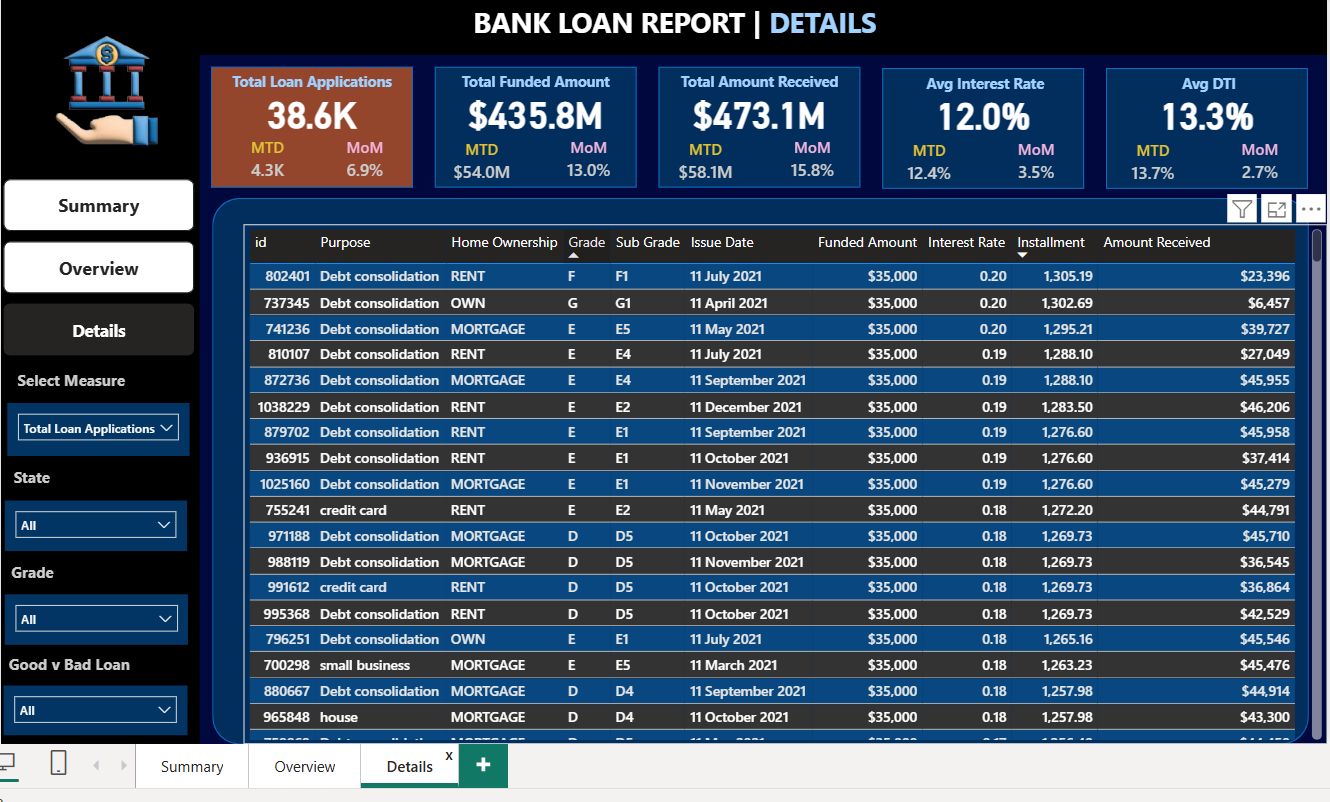

This screenshot's page, from the dashboard's own definition file:
{"tool":"powerbi","page":{"name":"Details","canvas":[1280,720],"ordinal":2},"visuals":[{"type":"shape","box":[0,54.8,191.7,665.5],"z":0},{"type":"shape","box":[0,0,1280.3,54.9],"z":1000},{"type":"textbox","box":[424.2,0,451.6,49.5],"z":2000},{"type":"group","id":"g1","title":"Group 1","box":[203,65.9,194.9,116.8],"z":3000},{"type":"shape","box":[203.1,65.9,194.9,116.6],"z":3000,"group":"g6"},{"type":"shape","box":[419,66.3,194.9,116.6],"z":3000,"group":"g7"},{"type":"shape","box":[634.9,66.3,194.9,116.6],"z":3000,"group":"g8"},{"type":"shape","box":[850.7,67.7,194.9,116.6],"z":3000,"group":"g9"},{"type":"shape","box":[1066.5,67.7,194.9,116.6],"z":3000,"group":"g10"},{"type":"group","id":"g2","title":"Group 1","box":[418.9,66.3,194.9,116.8],"z":4000},{"type":"card","fields":{"Values":["financial_loan.Total Loan Applications"]},"box":[203,85.3,194.9,48.7],"z":4000,"group":"g6"},{"type":"card","fields":{"Values":["financial_loan.Total Funded Amount"]},"box":[418.9,85.7,194.9,48.7],"z":4000,"group":"g7"},{"type":"card","fields":{"Values":["financial_loan.Total Amount Received"]},"box":[634.8,85.7,194.9,48.7],"z":4000,"group":"g8"},{"type":"card","fields":{"Values":["financial_loan.Avg Interest Rate"]},"box":[850.6,87.1,194.9,48.7],"z":4000,"group":"g9"},{"type":"card","fields":{"Values":["financial_loan.Avg DTI"]},"box":[1066.4,87.1,194.9,48.7],"z":4000,"group":"g10"},{"type":"textbox","box":[203,66.3,194.9,36.5],"z":5000,"group":"g6"},{"type":"group","id":"g3","title":"Group 1","box":[634.8,66.3,194.9,117.7],"z":5000},{"type":"textbox","box":[418.9,66.7,194.9,36.5],"z":5000,"group":"g7"},{"type":"textbox","box":[634.8,66.7,194.9,36.5],"z":5000,"group":"g8"},{"type":"textbox","box":[850.6,68.1,194.9,36.5],"z":5000,"group":"g9"},{"type":"textbox","box":[1066.4,68.1,194.9,36.5],"z":5000,"group":"g10"},{"type":"group","id":"g4","title":"Group 1","box":[850.6,67.7,194.9,117.7],"z":6000},{"type":"card","title":"MTD","fields":{"Values":["financial_loan.MTD Loan Applications"]},"box":[227.4,134,60.9,48.7],"z":6000,"group":"g6"},{"type":"card","title":"MTD","fields":{"Values":["financial_loan.MTD Funded Amount"]},"box":[423.8,134.9,81.2,47.4],"z":6000,"group":"g7"},{"type":"card","title":"MTD","fields":{"Values":["financial_loan.MTD Total Amount Received"]},"box":[639.7,134.9,81.2,47.4],"z":6000,"group":"g8"},{"type":"card","title":"MTD","fields":{"Values":["financial_loan.MTD Avg Int Rate"]},"box":[855.5,136.3,81.2,47.4],"z":6000,"group":"g9"},{"type":"card","title":"MTD","fields":{"Values":["financial_loan.MTD Avg DTI"]},"box":[1071.3,136.3,81.2,47.4],"z":6000,"group":"g10"},{"type":"group","id":"g5","title":"Group 1","box":[1066.4,67.7,194.9,117.7],"z":7000},{"type":"card","title":"MoM","fields":{"Values":["financial_loan.MoM Loan Applications"]},"box":[320.7,134,60.9,48.7],"z":7000,"group":"g6"},{"type":"card","title":"MoM","fields":{"Values":["financial_loan.MoM Total Funded Amount"]},"box":[536.6,134.4,60.9,48.7],"z":7000,"group":"g7"},{"type":"card","title":"MoM","fields":{"Values":["financial_loan.MoM Total Amount Received"]},"box":[752.5,134.4,60.9,48.7],"z":7000,"group":"g8"},{"type":"card","title":"MoM","fields":{"Values":["financial_loan.MoM Avg Int Rate"]},"box":[968.3,135.8,60.9,48.7],"z":7000,"group":"g9"},{"type":"card","title":"MoM","fields":{"Values":["financial_loan.MoM Avg DTI"]},"box":[1184.1,135.8,60.9,48.7],"z":7000,"group":"g10"},{"type":"group","id":"g6","title":"Group 2","box":[203,65.9,194.9,116.8],"z":7002,"group":"g1"},{"type":"group","id":"g7","title":"Group 2","box":[418.9,66.3,194.9,116.8],"z":7002,"group":"g2"},{"type":"group","id":"g8","title":"Group 2","box":[634.8,66.3,194.9,116.8],"z":7002,"group":"g3"},{"type":"group","id":"g9","title":"Group 2","box":[850.6,67.7,194.9,116.8],"z":7002,"group":"g4"},{"type":"group","id":"g10","title":"Group 2","box":[1066.4,67.7,194.9,116.8],"z":7002,"group":"g5"},{"type":"shape","box":[203.6,192.9,1058.3,527.4],"z":8000},{"type":"tableEx","fields":{"Values":["financial_loan.id","financial_loan.purpose","financial_loan.home_ownership","financial_loan.grade","financial_loan.sub_grade","financial_loan.issue_date","financial_loan.Total Funded Amount","Sum(financial_loan.int_rate)","Sum(financial_loan.installment)","financial_loan.Total Amount Received"]},"box":[234.4,217.8,1045.6,502.2],"z":9000},{"type":"textbox","box":[6.7,447.8,81.1,36.8],"z":10000},{"type":"slicer","fields":{"Values":["financial_loan.address_state"]},"box":[3.6,484.7,175.8,48.4],"z":11000},{"type":"slicer","fields":{"Values":["financial_loan.grade"]},"box":[3.8,575.8,176.8,48.4],"z":12000},{"type":"textbox","box":[5,538.8,90.5,36.9],"z":13000},{"type":"textbox","box":[2.6,626.9,172.6,36.9],"z":14000},{"type":"slicer","fields":{"Values":["financial_loan.purpose"]},"box":[2.6,663.8,177.4,47.6],"z":15000},{"type":"slicer","fields":{"Values":["Select Measure.Select Measure"]},"box":[5.8,390.6,175.8,51.6],"z":16000},{"type":"image","box":[6.2,33.3,191.7,111.9],"z":17000},{"type":"pageNavigator","box":[2.6,174.5,184.5,170.2],"z":18000},{"type":"textbox","box":[10.7,353.6,131,36.9],"z":19000}]}

Visuals, with their boxes on the page's 1280x720 design canvas (x1, y1, x2, y2). These are canvas units, not pixel positions in the 1330x802 screenshot, which may show the page scaled, cropped or inside an application window:
shape: (x1=0, y1=55, x2=192, y2=720)
shape: (x1=0, y1=0, x2=1280, y2=55)
textbox: (x1=424, y1=0, x2=876, y2=50)
"Group 1" group: (x1=203, y1=66, x2=398, y2=183)
shape: (x1=203, y1=66, x2=398, y2=182)
shape: (x1=419, y1=66, x2=614, y2=183)
shape: (x1=635, y1=66, x2=830, y2=183)
shape: (x1=851, y1=68, x2=1046, y2=184)
shape: (x1=1066, y1=68, x2=1261, y2=184)
"Group 1" group: (x1=419, y1=66, x2=614, y2=183)
card - financial_loan.Total Loan Applications: (x1=203, y1=85, x2=398, y2=134)
card - financial_loan.Total Funded Amount: (x1=419, y1=86, x2=614, y2=134)
card - financial_loan.Total Amount Received: (x1=635, y1=86, x2=830, y2=134)
card - financial_loan.Avg Interest Rate: (x1=851, y1=87, x2=1046, y2=136)
card - financial_loan.Avg DTI: (x1=1066, y1=87, x2=1261, y2=136)
textbox: (x1=203, y1=66, x2=398, y2=103)
"Group 1" group: (x1=635, y1=66, x2=830, y2=184)
textbox: (x1=419, y1=67, x2=614, y2=103)
textbox: (x1=635, y1=67, x2=830, y2=103)
textbox: (x1=851, y1=68, x2=1046, y2=105)
textbox: (x1=1066, y1=68, x2=1261, y2=105)
"Group 1" group: (x1=851, y1=68, x2=1046, y2=185)
"MTD" card: (x1=227, y1=134, x2=288, y2=183)
"MTD" card: (x1=424, y1=135, x2=505, y2=182)
"MTD" card: (x1=640, y1=135, x2=721, y2=182)
"MTD" card: (x1=856, y1=136, x2=937, y2=184)
"MTD" card: (x1=1071, y1=136, x2=1152, y2=184)
"Group 1" group: (x1=1066, y1=68, x2=1261, y2=185)
"MoM" card: (x1=321, y1=134, x2=382, y2=183)
"MoM" card: (x1=537, y1=134, x2=598, y2=183)
"MoM" card: (x1=752, y1=134, x2=813, y2=183)
"MoM" card: (x1=968, y1=136, x2=1029, y2=184)
"MoM" card: (x1=1184, y1=136, x2=1245, y2=184)
"Group 2" group: (x1=203, y1=66, x2=398, y2=183)
"Group 2" group: (x1=419, y1=66, x2=614, y2=183)
"Group 2" group: (x1=635, y1=66, x2=830, y2=183)
"Group 2" group: (x1=851, y1=68, x2=1046, y2=184)
"Group 2" group: (x1=1066, y1=68, x2=1261, y2=184)
shape: (x1=204, y1=193, x2=1262, y2=720)
tableEx - financial_loan.id x financial_loan.purpose: (x1=234, y1=218, x2=1280, y2=720)
textbox: (x1=7, y1=448, x2=88, y2=485)
slicer - financial_loan.address_state: (x1=4, y1=485, x2=179, y2=533)
slicer - financial_loan.grade: (x1=4, y1=576, x2=181, y2=624)
textbox: (x1=5, y1=539, x2=96, y2=576)
textbox: (x1=3, y1=627, x2=175, y2=664)
slicer - financial_loan.purpose: (x1=3, y1=664, x2=180, y2=711)
slicer - Select Measure.Select Measure: (x1=6, y1=391, x2=182, y2=442)
image: (x1=6, y1=33, x2=198, y2=145)
pageNavigator: (x1=3, y1=174, x2=187, y2=345)
textbox: (x1=11, y1=354, x2=142, y2=390)
